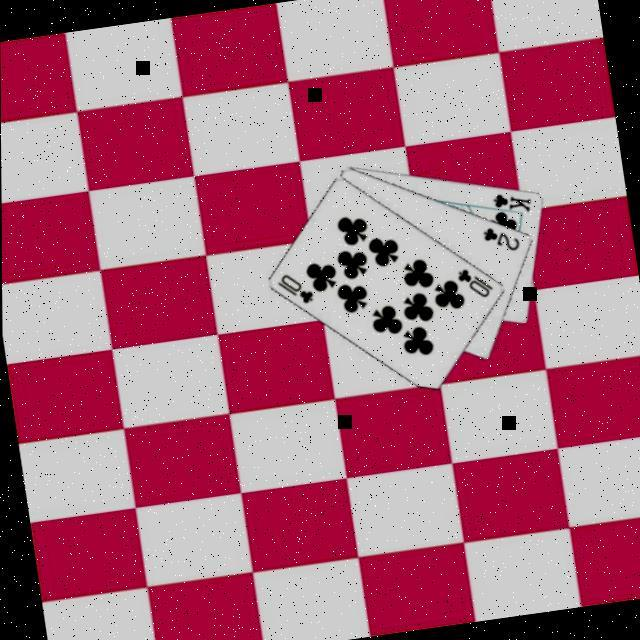10C: (274, 266, 318, 310), (453, 261, 498, 302)
2C: (480, 220, 524, 256)
KC: (483, 184, 536, 222)
